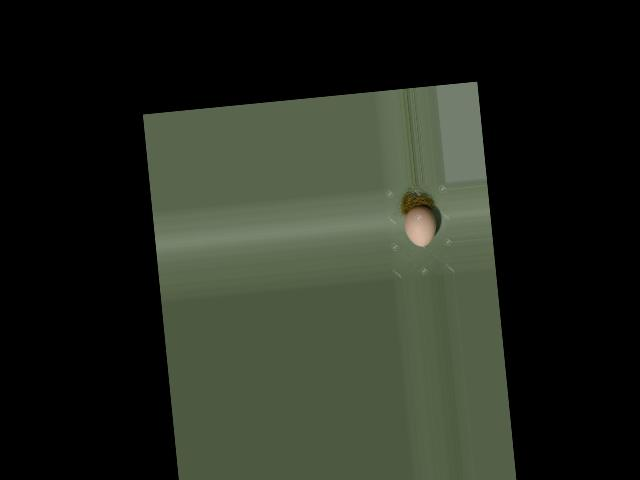egg: (403, 204, 438, 248)
